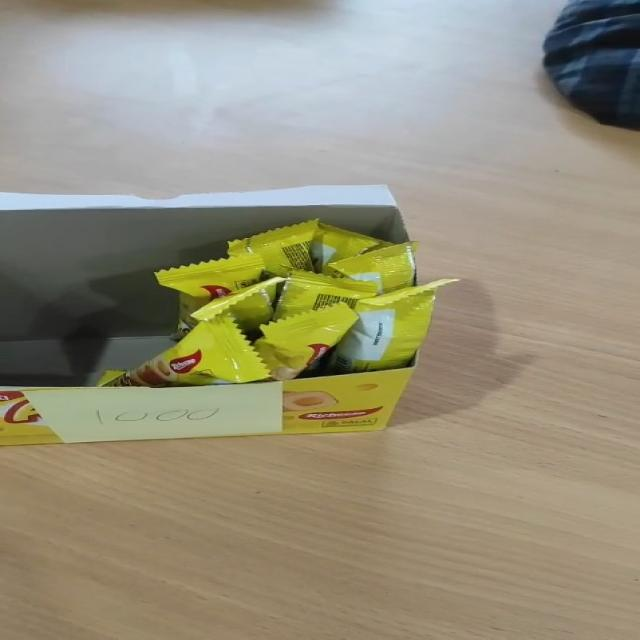Ahh: (329, 280, 454, 373), (102, 315, 265, 386), (157, 254, 262, 337), (254, 303, 355, 380), (191, 277, 283, 334), (229, 220, 316, 276), (276, 270, 374, 319), (329, 242, 416, 294), (312, 223, 380, 274)
